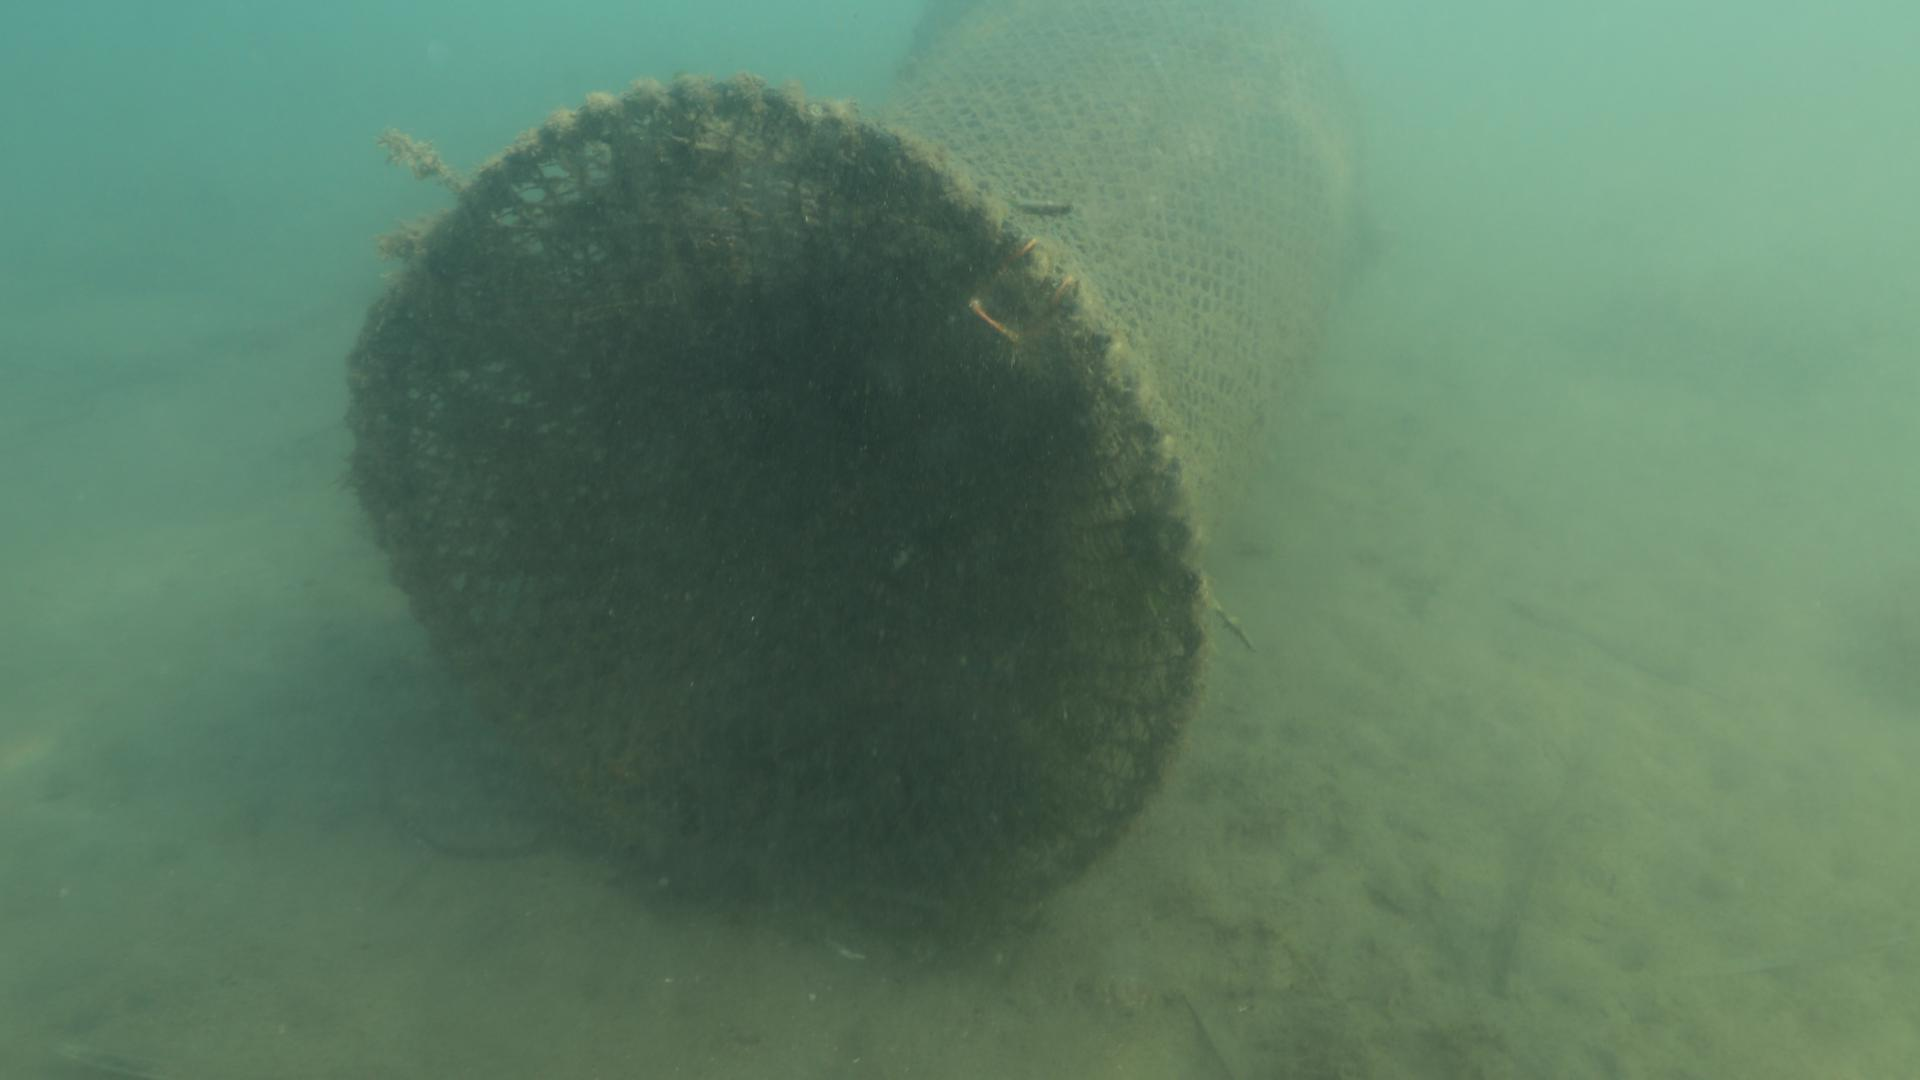spring fish trap: (349, 0, 1396, 940)
